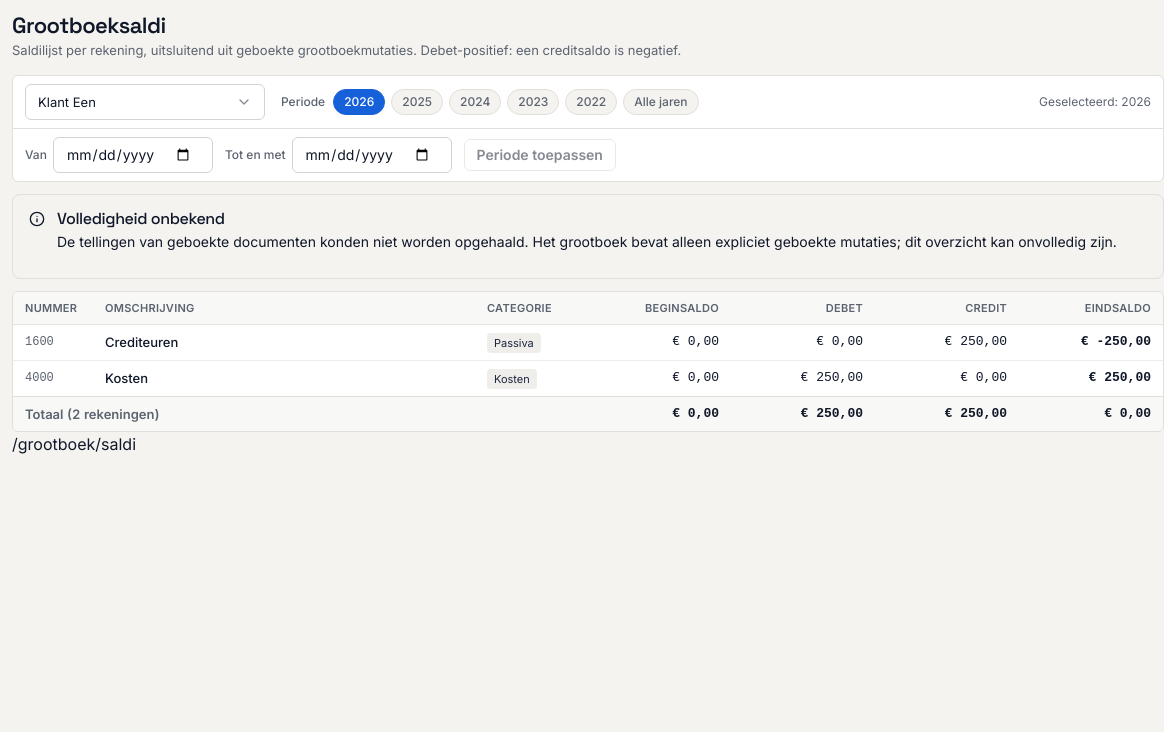
GrootboekSaldi — saldilijst › 12. klik op de rekeningnaam opent /grootboek/saldi/:accountId
The width and height of the screenshot is (1164, 732).
Click the link with aria-label "Open mutaties van 4000 - Kosten" at (126, 378), box [105,368,148,388]
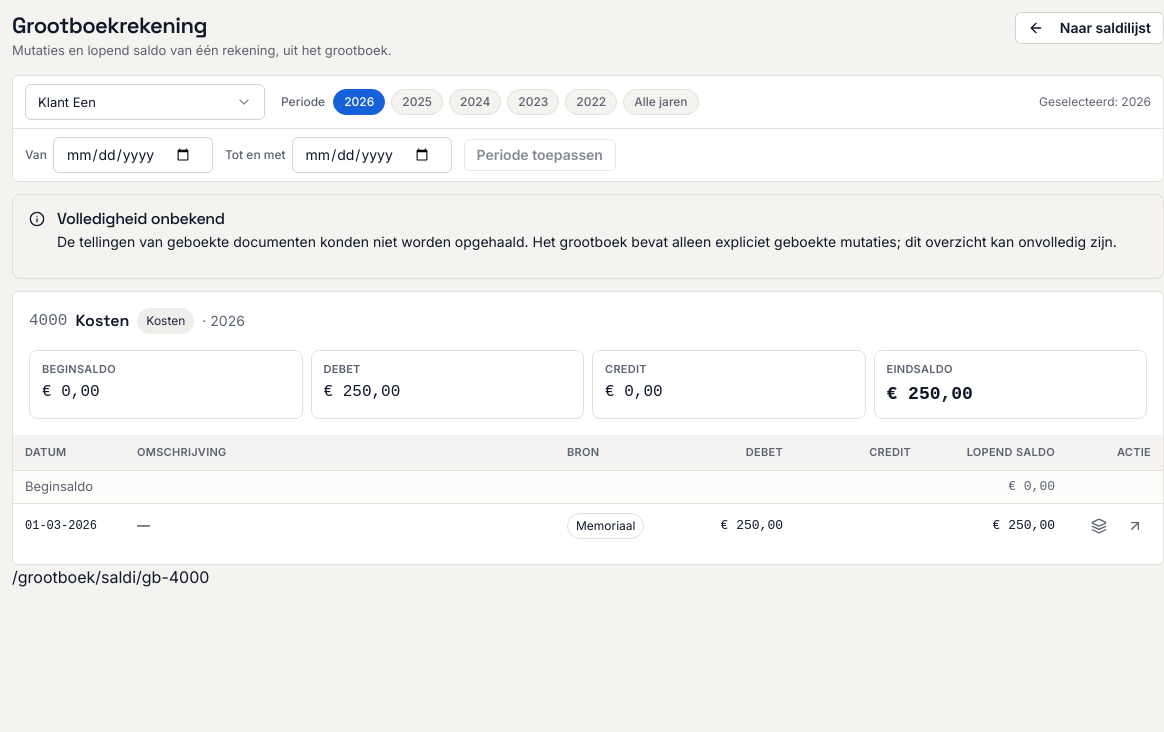
Expected: the text with test id "location" reads "/grootboek/saldi/gb-4000", [12,567,209,587]
Expected: the element with test id "account-header" shows "4000", [29,312,67,330]
